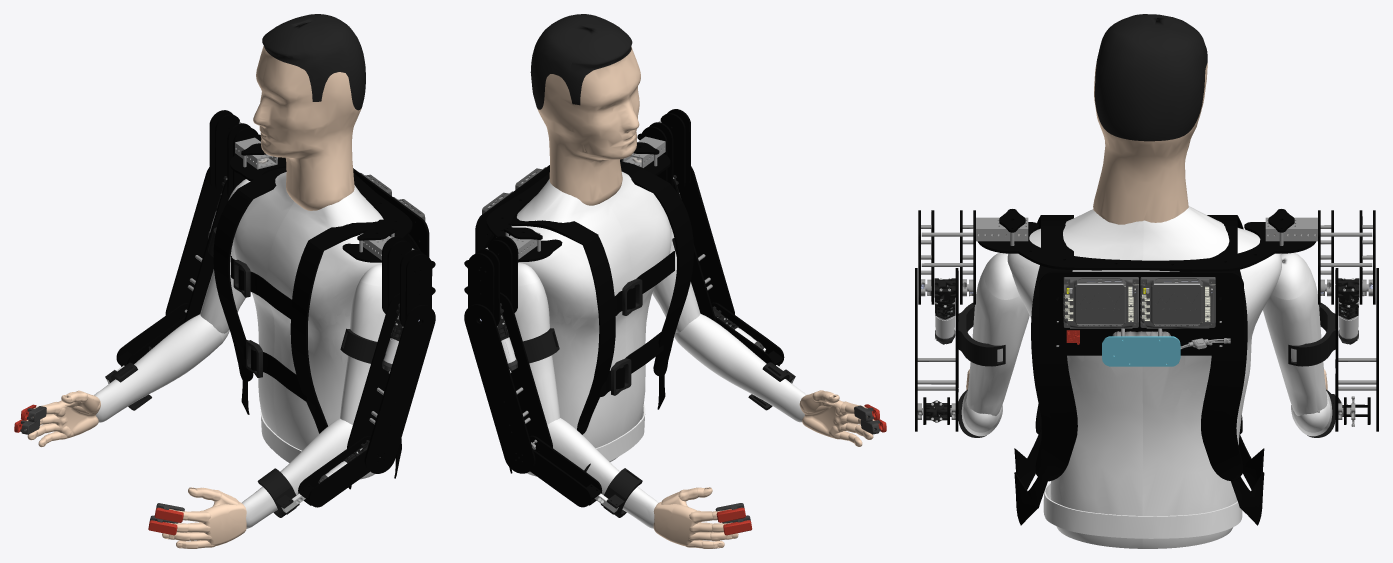
Rendered from arise.glb.
3 renders of one model, left to right at view 1: azimuth 30°, elevation 25°; view 2: azimuth 150°, elevation 25°; view 3: azimuth 270°, elevation 25°, orthographic. The views are drawn at different scales.
Parts seen in each view (by area): view 1: HD Hex Encoder Baseplate (1) (1) (2) (1) (1):1; view 2: HD Hex Encoder Baseplate (1) (1) (2) (1) (1):1; view 3: HD Hex Encoder Baseplate (1) (1) (2) (1) (1):1.
Part boxes in pixels (x1,y1,x2,y2): HD Hex Encoder Baseplate (1) (1) (2) (1) (1):1: (14,14,435,548); HD Hex Encoder Baseplate (1) (1) (2) (1) (1):1: (464,14,886,548); HD Hex Encoder Baseplate (1) (1) (2) (1) (1):1: (915,14,1378,548).
Bounding box in the file's own units: 0.8103 × 1.04 × 0.8771.
1 material, 1 textured.
